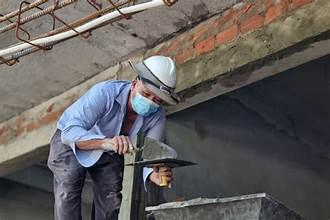Helmet: (129, 55, 179, 106)
Person: (46, 54, 179, 219)
bare-arms: (109, 130, 132, 161), (149, 163, 174, 189)
no-vest: (62, 82, 161, 152)
